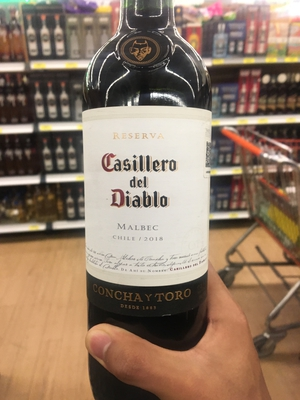casillero del diablo malbec: (81, 2, 218, 392)
